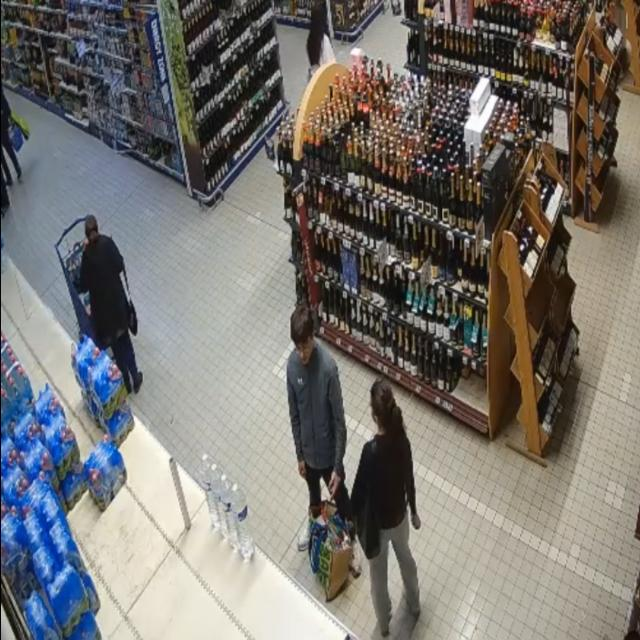bags: (309, 523, 351, 601), (356, 479, 380, 559), (124, 271, 138, 335), (11, 112, 30, 140), (11, 126, 24, 152)
hands: (329, 471, 341, 497), (411, 514, 421, 530), (298, 460, 306, 478)
person: (352, 379, 420, 635), (287, 306, 352, 550), (79, 216, 142, 392), (307, 4, 335, 78), (0, 89, 21, 186)
